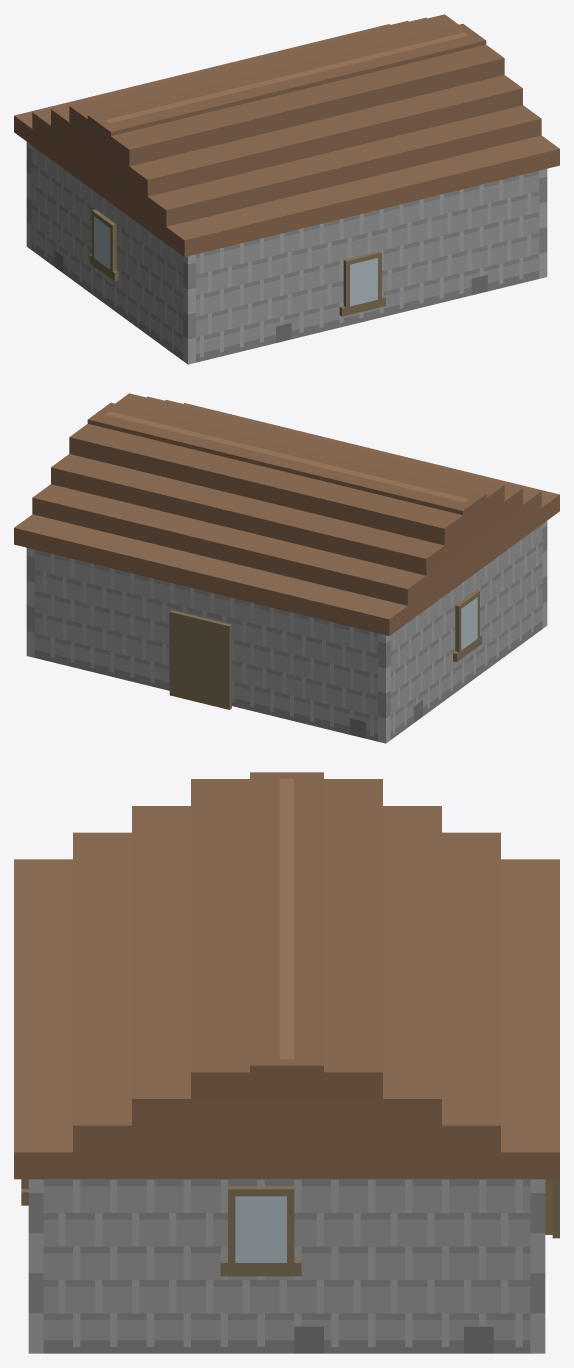
File: cocina_comunal_04.glb
3 views of the same model, one above another, from view 1: azimuth 30°, elevation 25°; view 2: azimuth 150°, elevation 25°; view 3: azimuth 270°, elevation 25° (orthographic). The views are drawn at different scales.
Visible parts, largest first — view 1: cocina_comunal_04; view 2: cocina_comunal_04; view 3: cocina_comunal_04.
Boxes of the visible parts, left/top/right/bottom form: cocina_comunal_04: left=14, top=14, right=559, bottom=364; cocina_comunal_04: left=14, top=393, right=559, bottom=743; cocina_comunal_04: left=14, top=772, right=559, bottom=1353.
Size of the model in its own units: 9.4 by 4.4 by 7.4.
